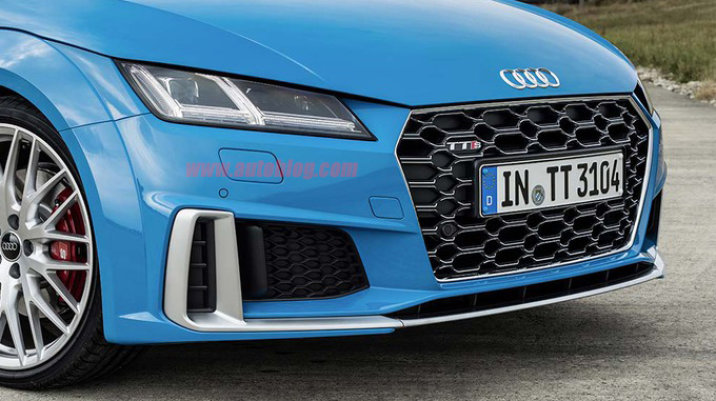audi: (489, 60, 571, 94)
